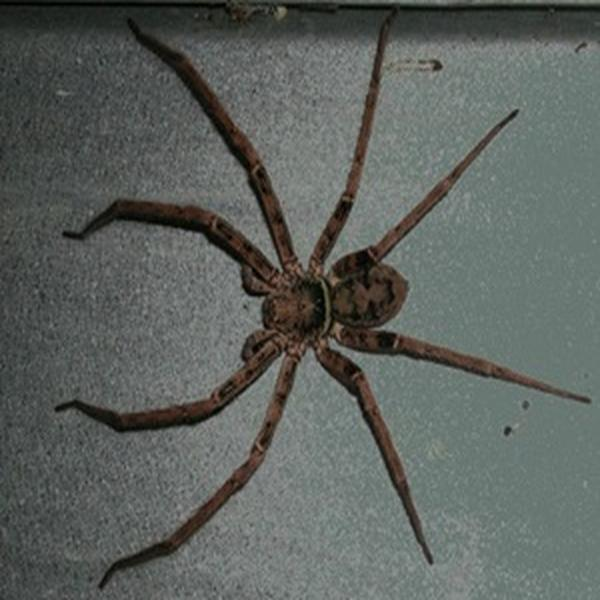Huntsman Spider: (73, 29, 580, 570)
